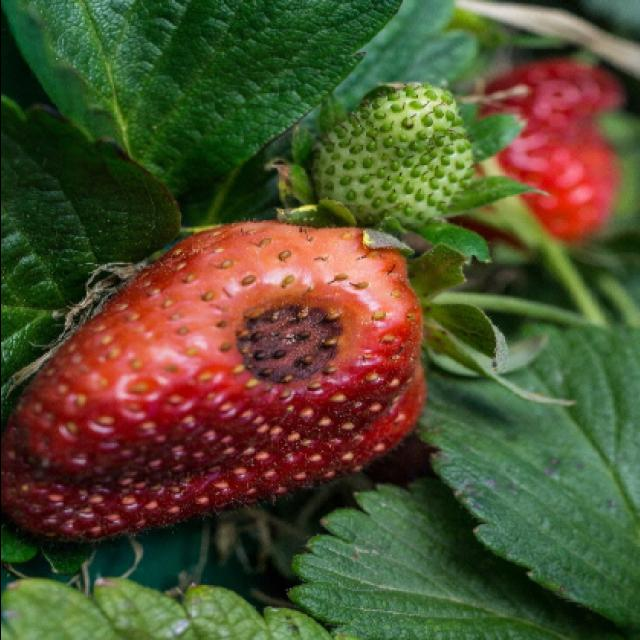Anthracnose Fruit Rot: (247, 294, 327, 386)
